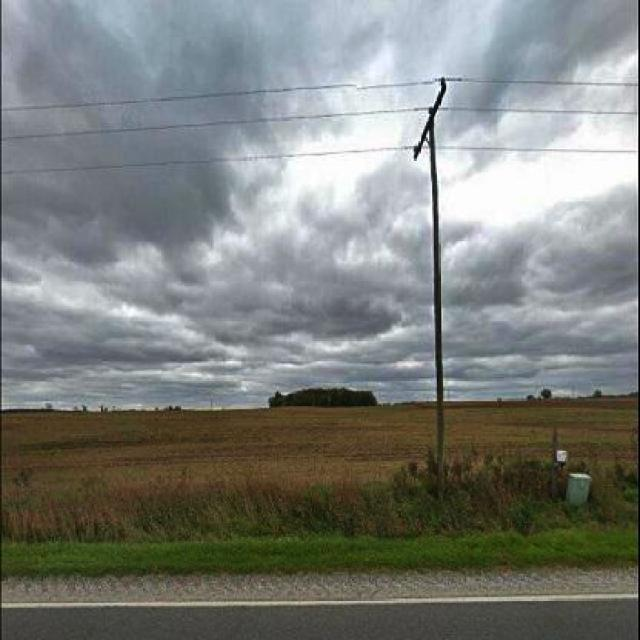pole: (428, 115, 446, 494)
transformer: (412, 76, 448, 162)
wire: (1, 107, 638, 141), (2, 78, 638, 112), (1, 146, 638, 175)
